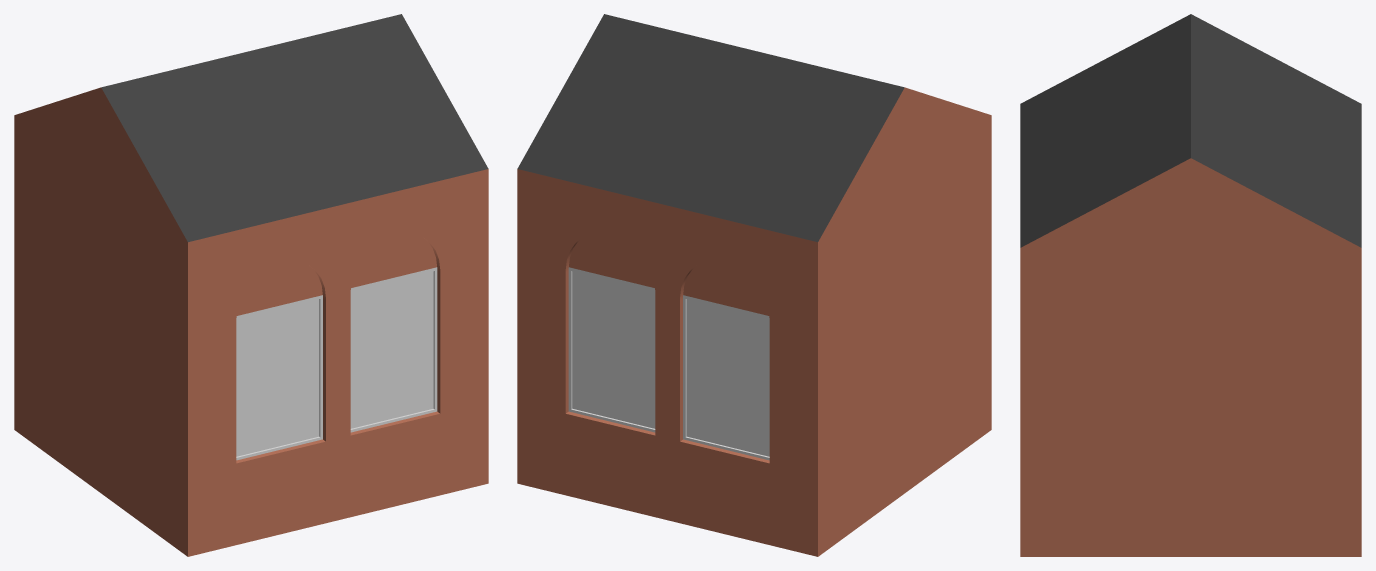
The model's file is factory_window_01.fbx.
3 views of the same model, side by side, from view 1: azimuth 30°, elevation 25°; view 2: azimuth 150°, elevation 25°; view 3: azimuth 270°, elevation 25° (orthographic).
Parts seen in each view (by area): view 1: factory_02; view 2: factory_02; view 3: factory_02.
Boxes of the visible parts, x1=… form: factory_02: x1=14, y1=14, x2=488, y2=556; factory_02: x1=517, y1=14, x2=991, y2=556; factory_02: x1=1020, y1=14, x2=1361, y2=556.
Size of the model in its own units: 400 by 516 by 400.
